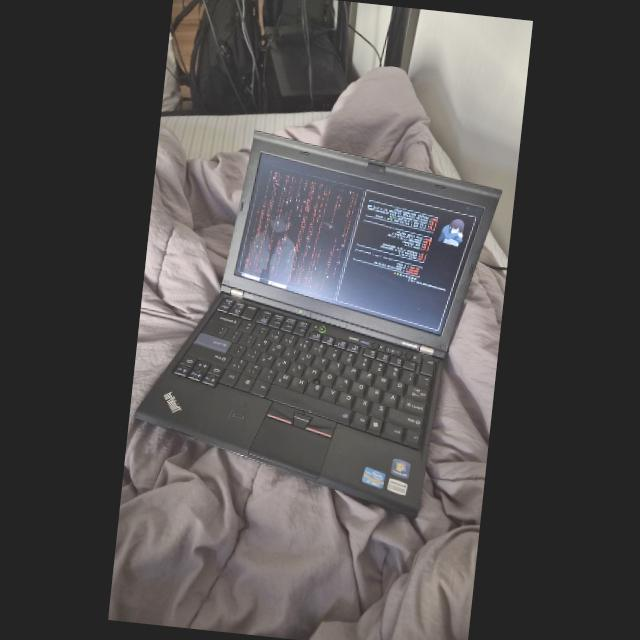laptop: (136, 131, 500, 516)
